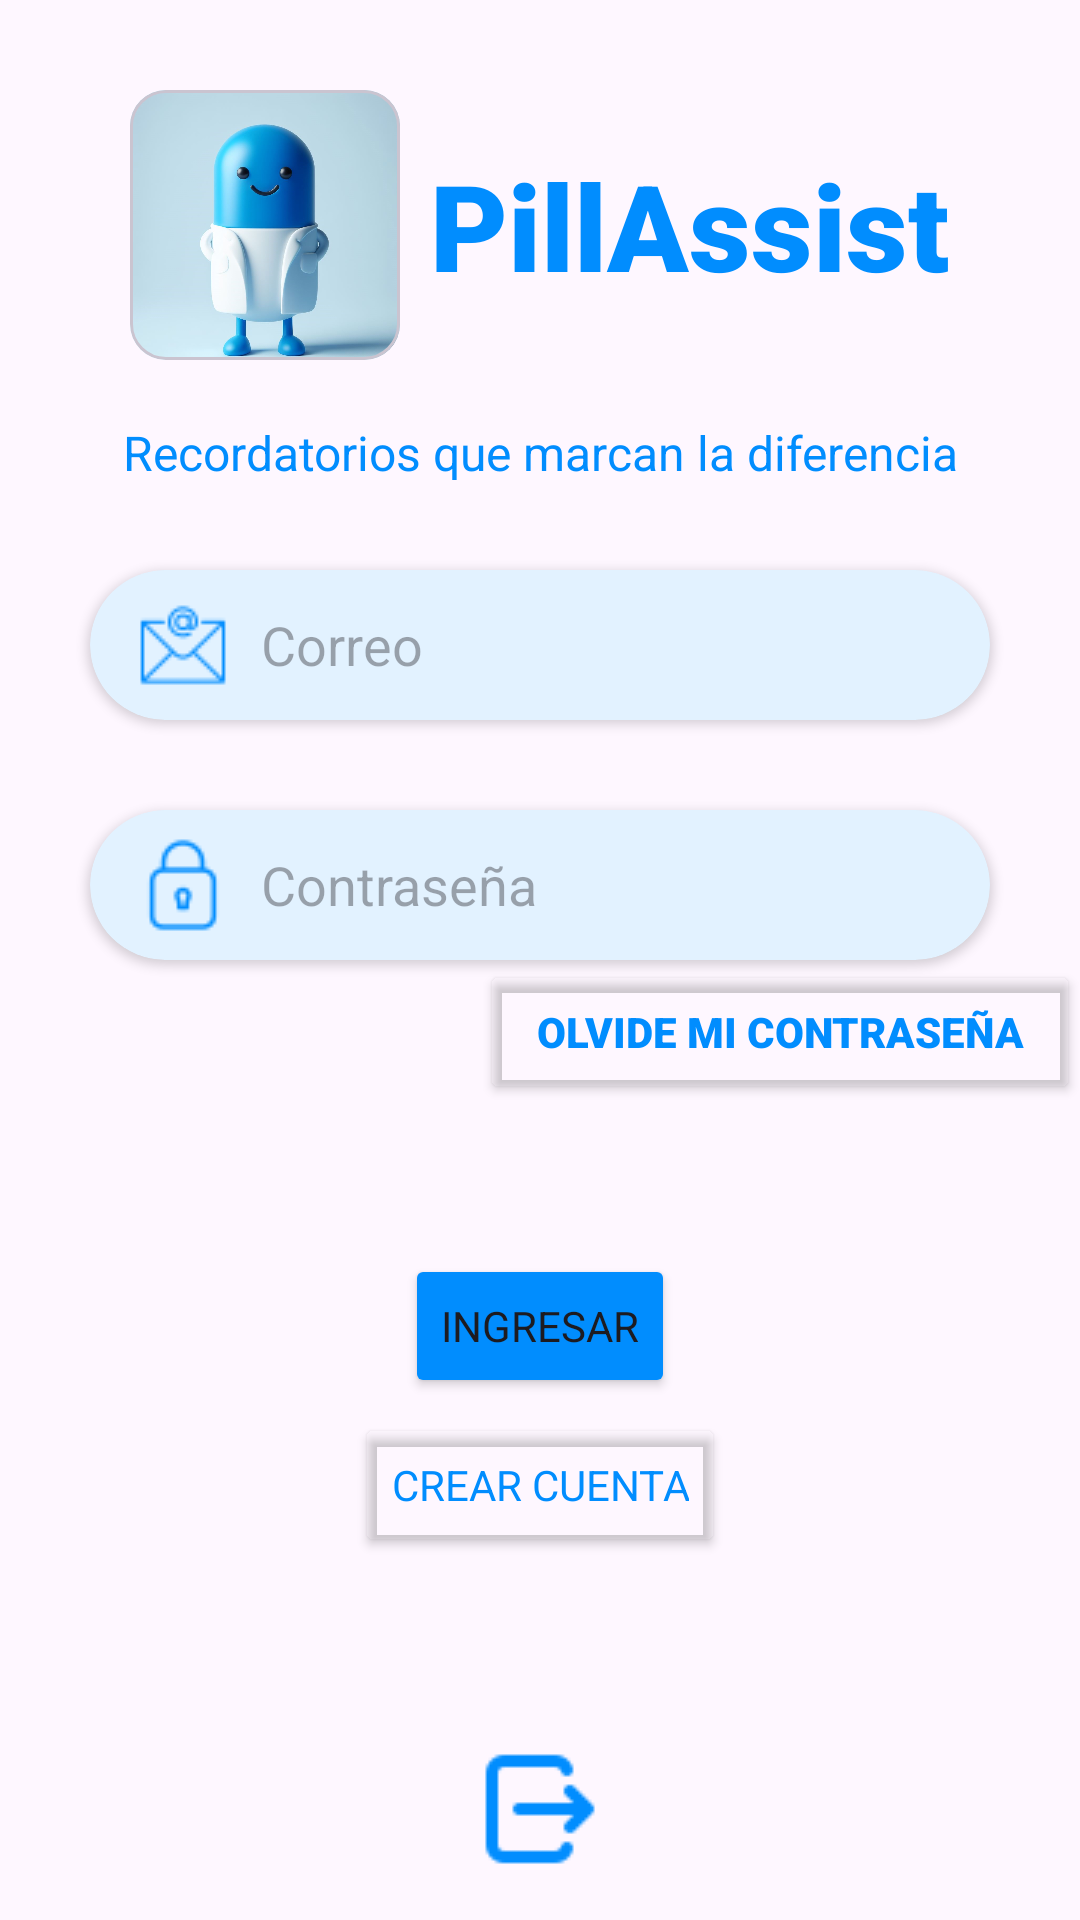

Icons on this 1080×1920 Android screen, each with the point to tap as (x,y):
exit: (540,1809)
